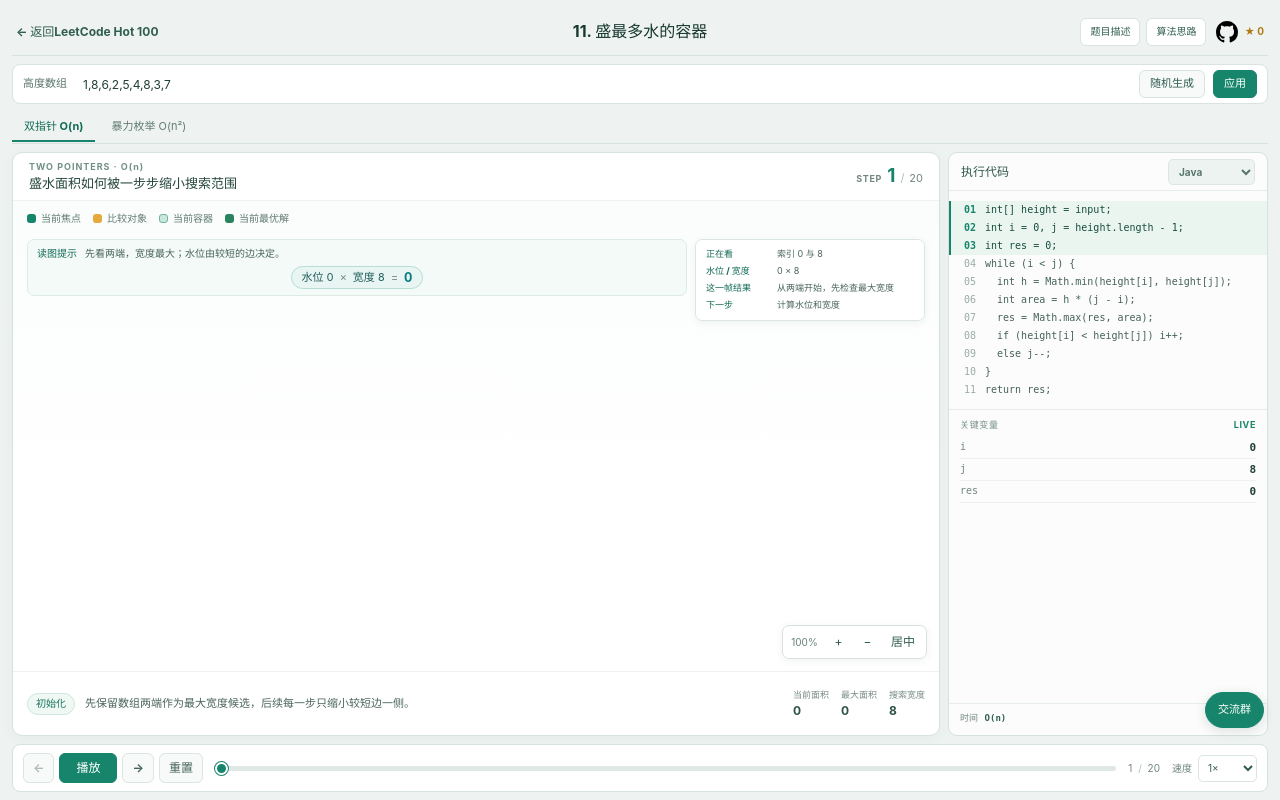
Test: 算法演示输入与步骤注册 › 非法输入显示错误并保留当前演示数据
Step 1. Replace the text in the field labelled "高度数组" with "2, nope, 4" → (603, 84), box [75,69,1131,99]
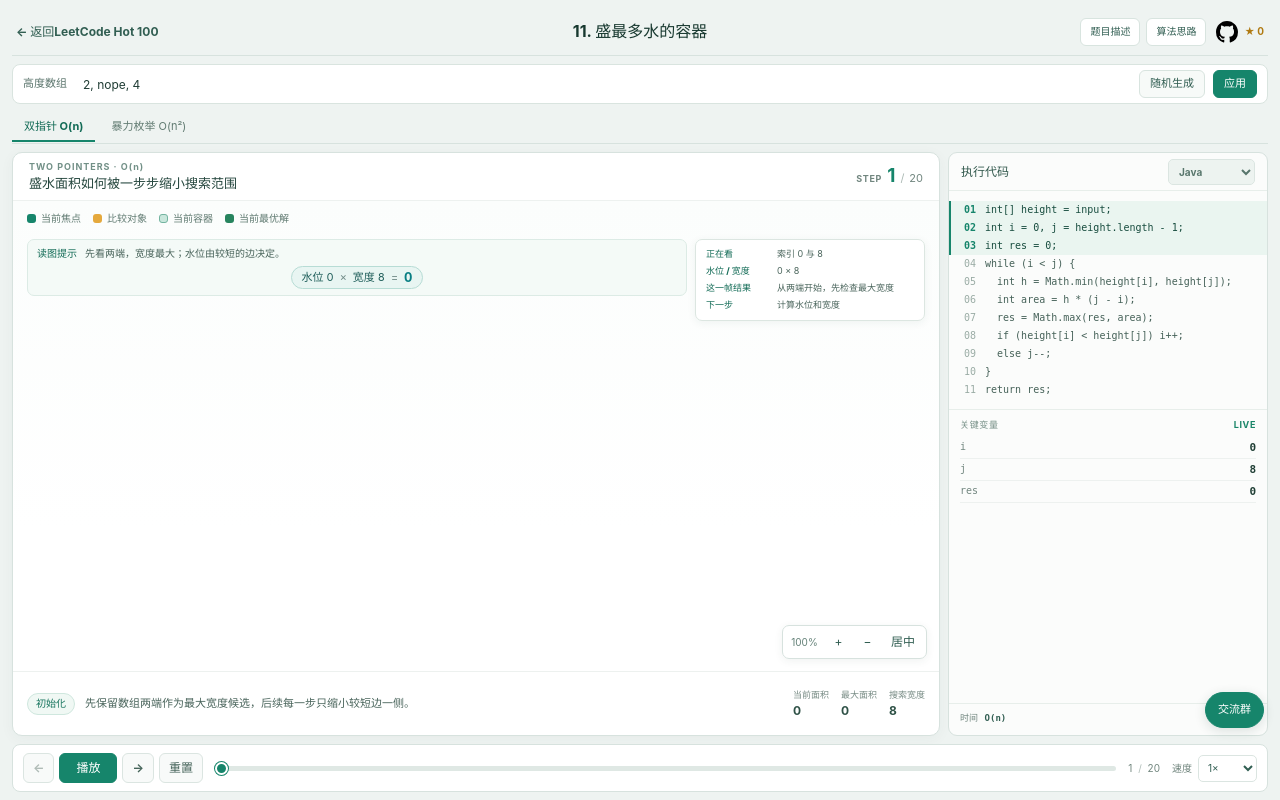
Step 2. Click the button "应用" → (1235, 84), box [1213,70,1257,98]
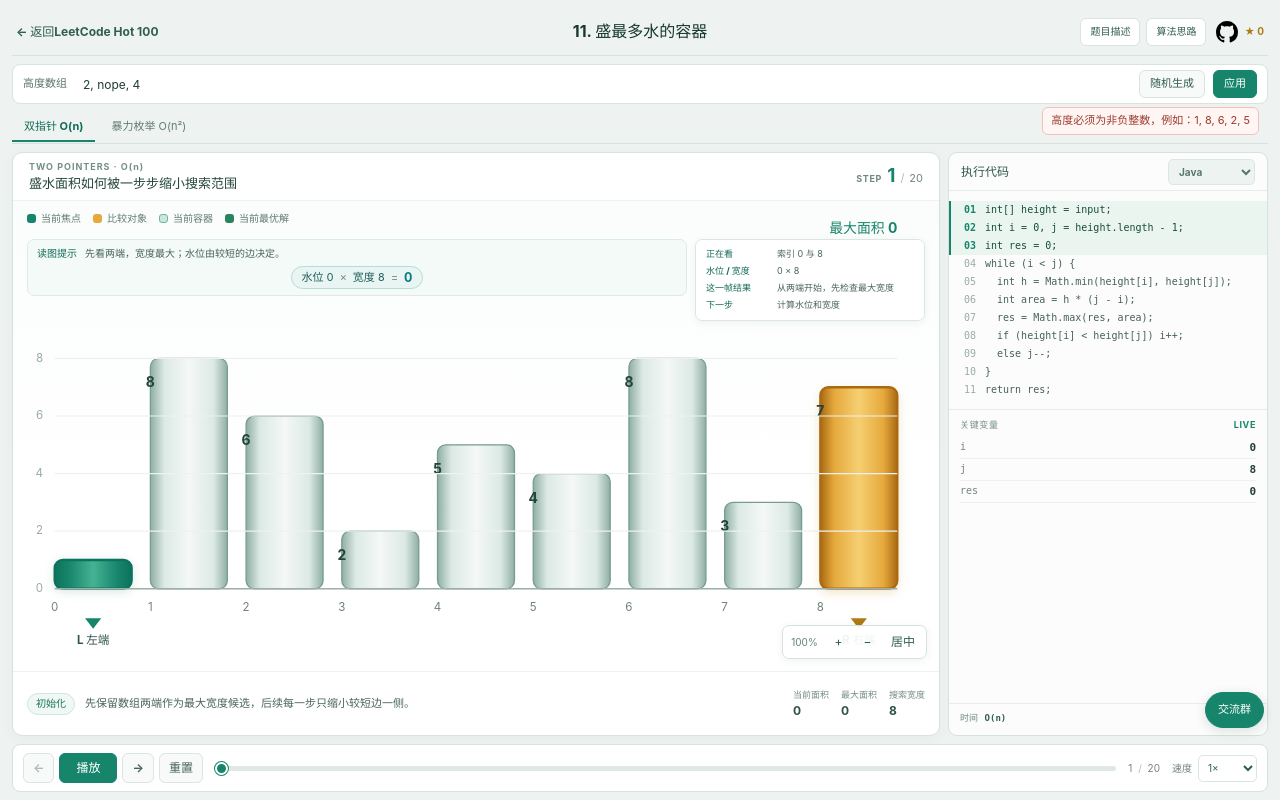
Expected: the slider named "动画进度" holds "0", [215,766,1116,770]
Result: the message shows "非负整数" at [1051,113,1250,127]
